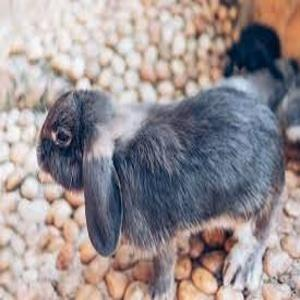rabbit: (37, 25, 298, 300)
